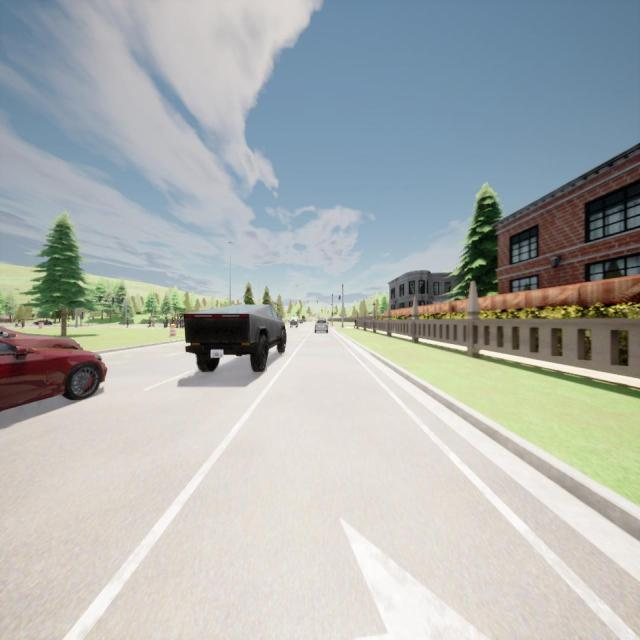Pedestrian: (146, 316, 156, 328), (20, 318, 27, 329), (125, 317, 130, 329), (175, 318, 179, 328), (164, 318, 166, 328), (354, 318, 356, 328)
Vehicle: (0, 326, 108, 410), (186, 305, 286, 371), (315, 319, 329, 334), (33, 318, 53, 326), (290, 317, 299, 328)
traffic_light: (338, 295, 341, 300)
